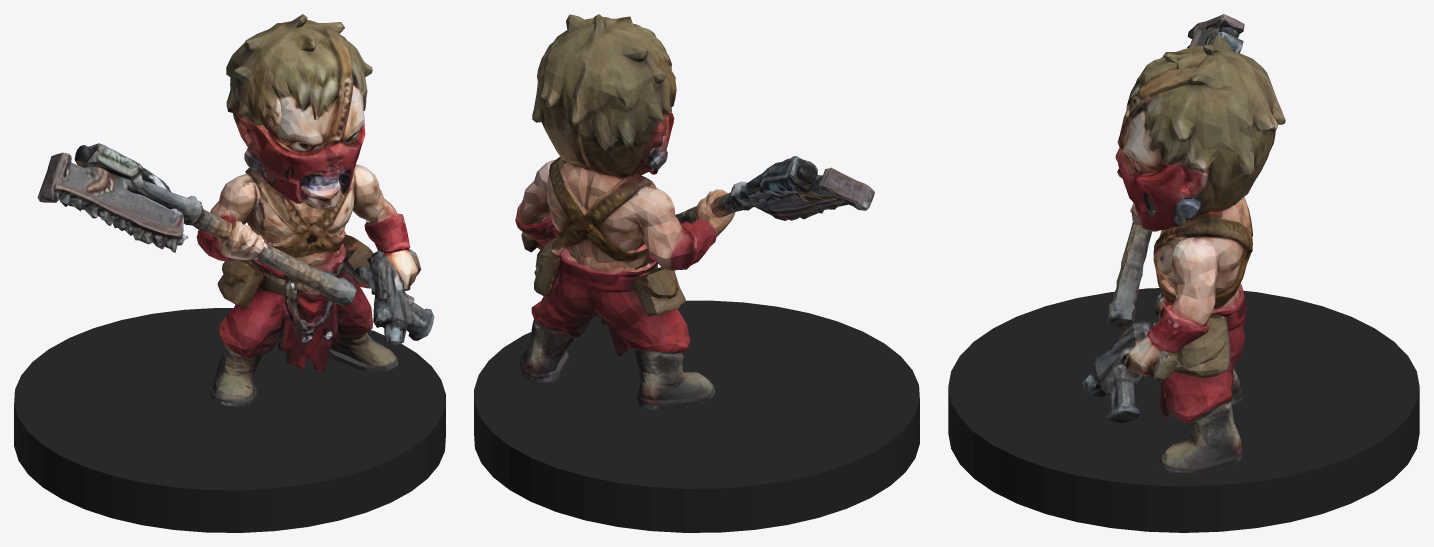
File: jakhal-mauler.glb
The picture shows the model from 3 angles, left to right: view 1: azimuth 30°, elevation 25°; view 2: azimuth 150°, elevation 25°; view 3: azimuth 270°, elevation 25°; orthographic projection. The views are drawn at different scales.
Visible parts, largest first — view 1: base, figure; view 2: base, figure; view 3: base, figure.
Part boxes in pixels (box(x1,y1,x2,y2)): base: box(14, 308, 445, 532); figure: box(37, 14, 434, 406); base: box(474, 300, 919, 532); figure: box(515, 14, 874, 410); base: box(948, 288, 1419, 532); figure: box(1082, 14, 1285, 474).
Bounding box in the file's own units: 1.1 × 1.12 × 1.1.
2 materials, 1 textured.
